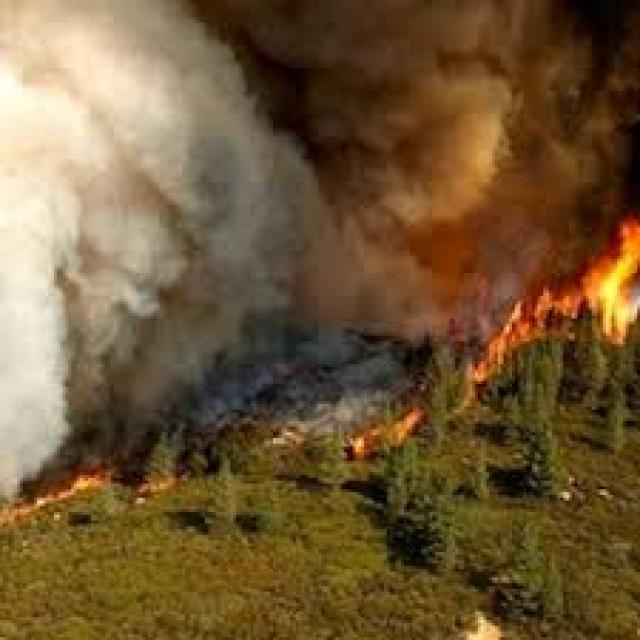Fire: (491, 203, 640, 370), (0, 461, 185, 526), (468, 282, 538, 390), (342, 400, 448, 470)
Smoke: (0, 0, 640, 372), (0, 0, 630, 352), (0, 0, 489, 417), (0, 0, 378, 471), (0, 0, 628, 277), (0, 0, 539, 296), (0, 0, 297, 502), (0, 0, 86, 507)
